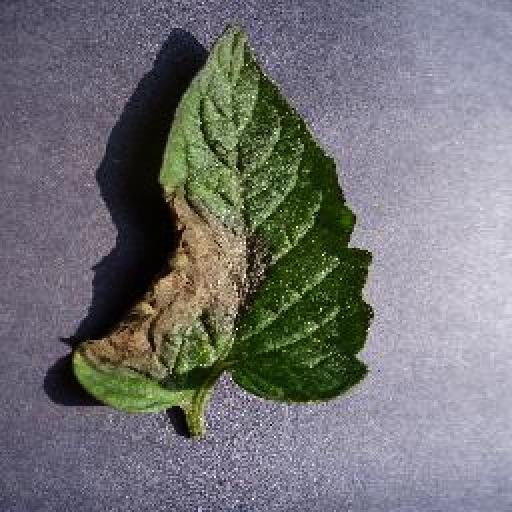disease_tomato: (70, 22, 374, 418)
